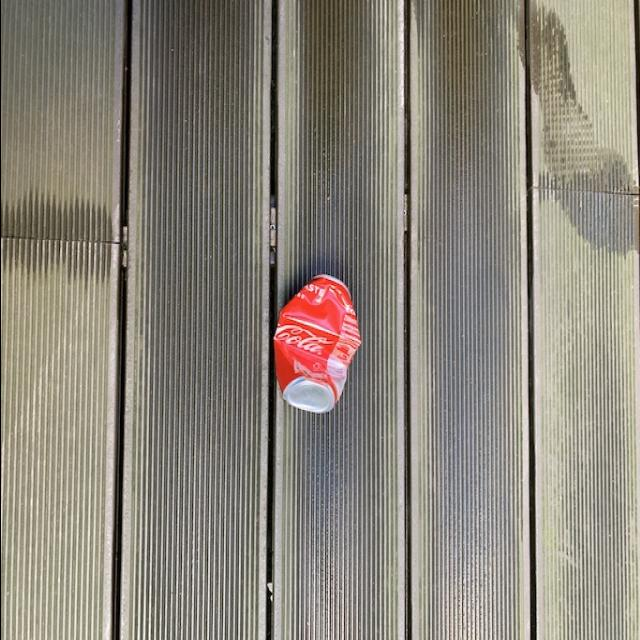litter: (268, 274, 358, 412)
